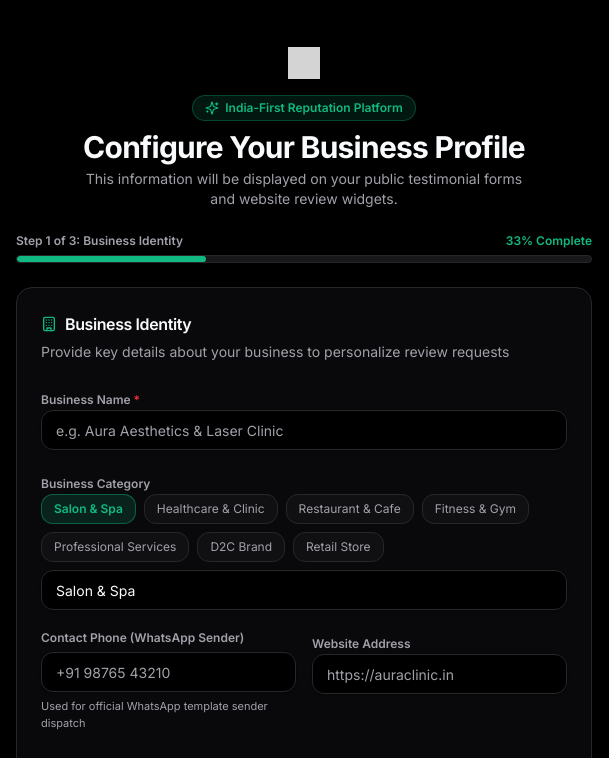
OnboardingPage Integration Tests › validates business name minimum length
Note: Clear default category or leave it, clear name and type a 1-character name
In the field with placeholder "e.g. Aura Aesthetics & Laser Clinic": (304, 430) [41,410,567,450], type "A"
(page scrolled)
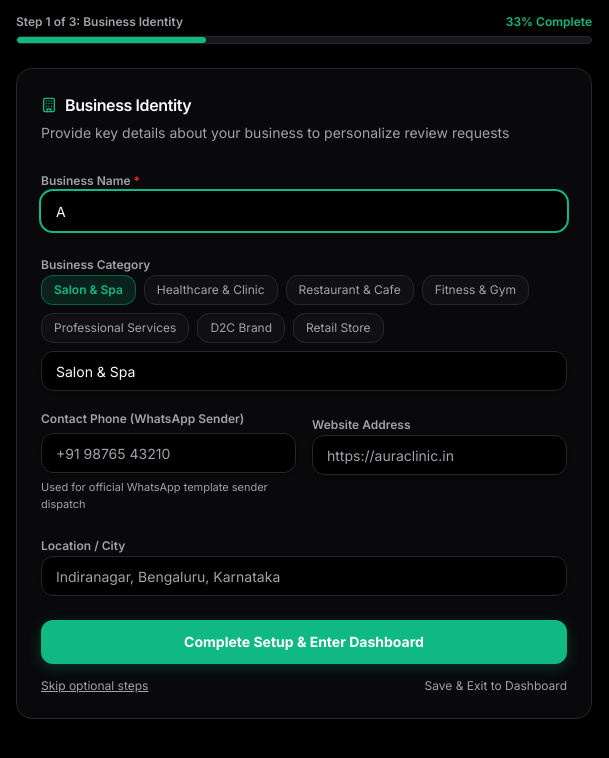
Click the button "Complete Setup & Enter Dashboard": click(304, 642) [41,620,567,664]
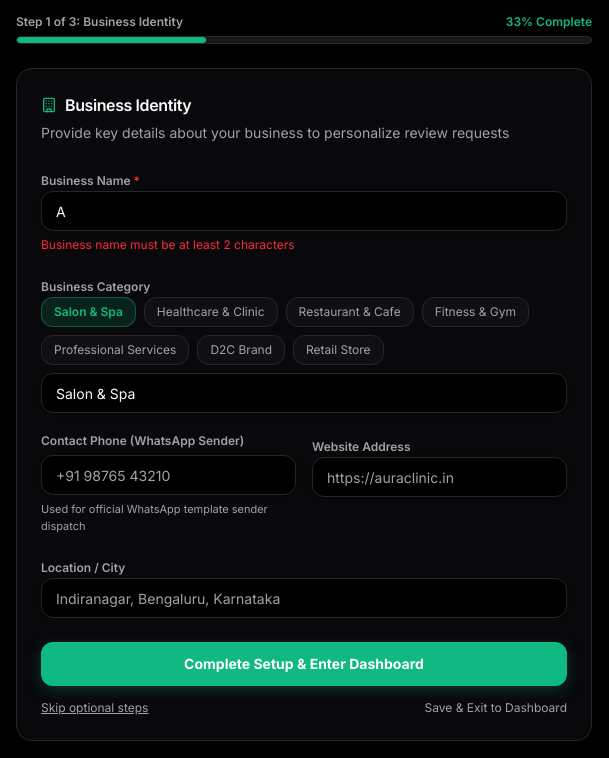
expect the text "Business name must be at least 2 characters" is shown: met, box [41,237,295,252]
